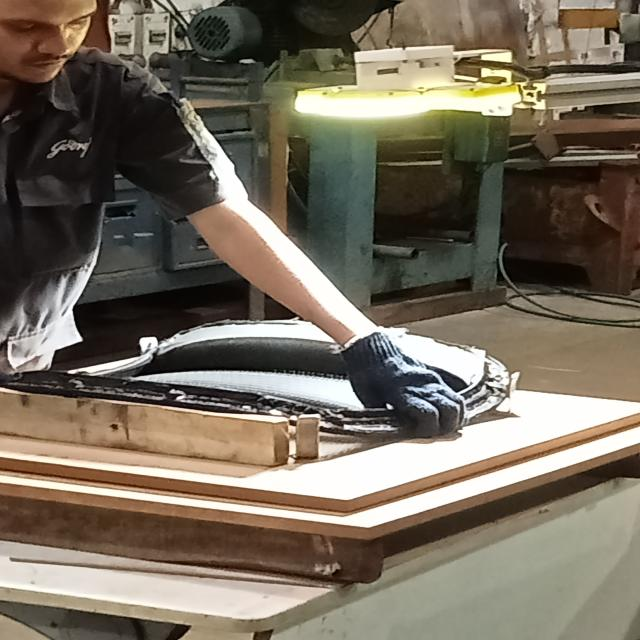Gloves-Detection: (336, 336, 474, 434)
